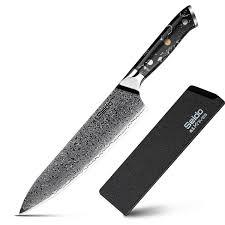Knife: (18, 4, 198, 214)
